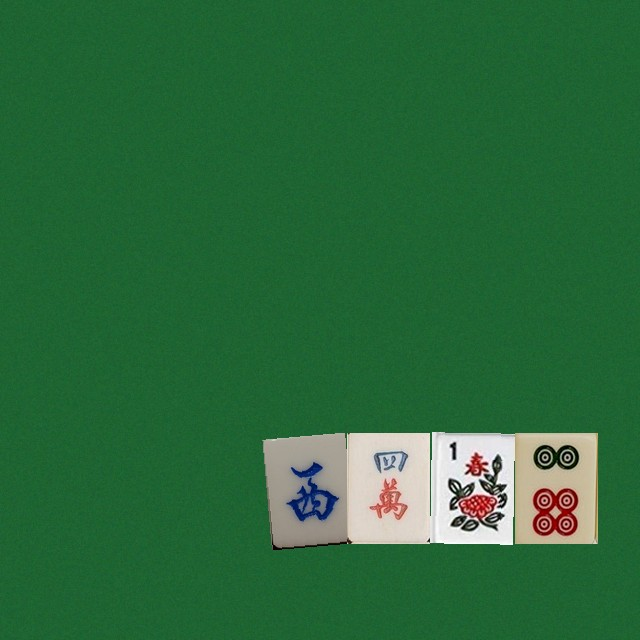tile: (262, 432, 345, 543), (346, 432, 429, 543), (430, 432, 513, 543), (514, 432, 597, 543)
